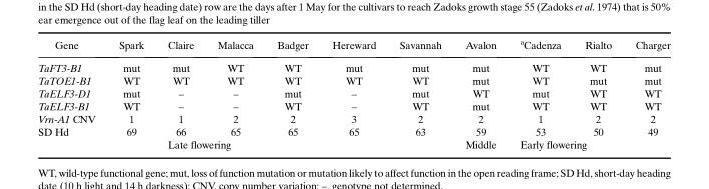table: (37, 37, 669, 150)
table column: (37, 37, 106, 150), (319, 37, 387, 150), (387, 37, 452, 150), (507, 37, 572, 150), (205, 37, 264, 150), (264, 37, 319, 150), (452, 37, 507, 150), (155, 37, 205, 150), (572, 37, 622, 150), (106, 37, 155, 150), (622, 37, 669, 150)
table column header: (37, 37, 669, 55)
table row: (37, 37, 669, 55), (37, 55, 669, 73), (37, 73, 669, 86), (37, 86, 669, 99), (37, 111, 669, 124), (37, 124, 669, 137), (37, 137, 669, 150), (37, 99, 669, 111)
table spanning cell: (155, 137, 319, 150), (507, 137, 669, 150), (37, 124, 106, 150)
